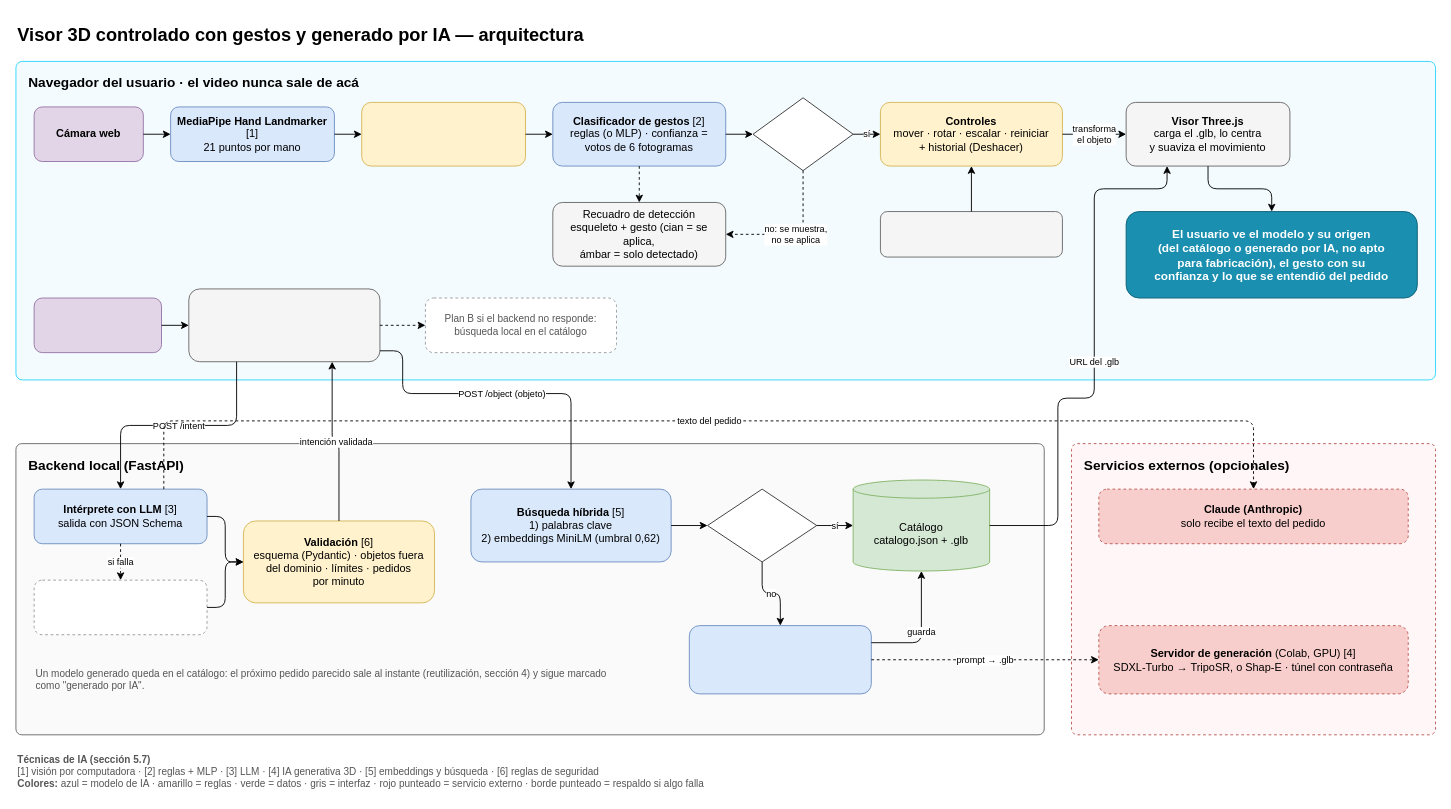
Some shapes in this 1451 by 809 pixel diagram are drawn without their labels. The shapes that lost their labels are listed below. From the top down, each one's centre as x and y in pixels, then its label:
[443,133]: Normalización origen en la muñeca, escala de la mano
[802,134]: confianza ≥ 0,8
[971,234]: Botones y teclado (control alternativo)
[97,325]: Pedido escrito "mostrame una válvula"
[284,325]: Orquestador (main.js) muestra lo entendido; pide confirmación si confianza < 0,5
[762,525]: ¿está en el catálogo?
[120,607]: Intérprete por reglas (respaldo: sin clave o sin red)
[779,659]: generate3d.py [4] prompt B · valida el .glb · lo guarda en el catálogo
